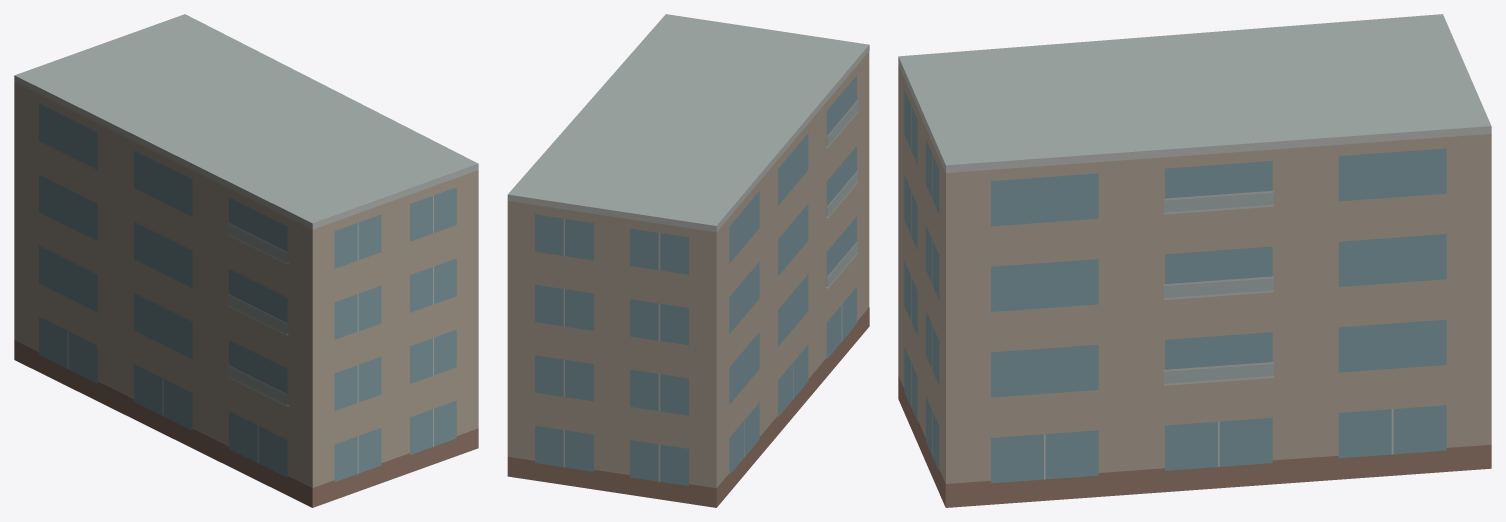
The model's file is survey-upis-32739861.glb.
The picture shows the model from 3 angles, left to right: view 1: azimuth 30°, elevation 25°; view 2: azimuth 150°, elevation 25°; view 3: azimuth 270°, elevation 25°; orthographic projection. The views are drawn at different scales.
Visible parts, largest first — view 1: survey-upis-32739861.tmp; view 2: survey-upis-32739861.tmp; view 3: survey-upis-32739861.tmp.
Part boxes in pixels (x1,y1,x2,y2): survey-upis-32739861.tmp: [14, 14, 478, 507]; survey-upis-32739861.tmp: [507, 14, 869, 507]; survey-upis-32739861.tmp: [898, 14, 1491, 507].
Bounding box in the file's own units: 10.29 × 10.85 × 17.04.
